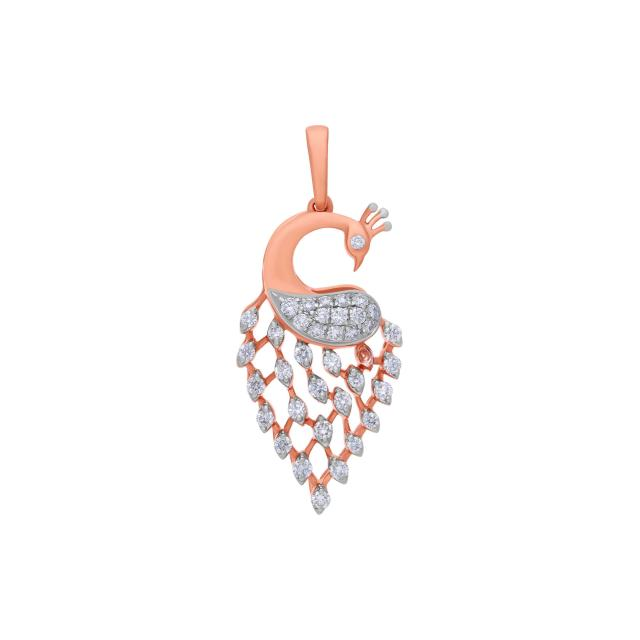missing gem: (357, 344, 373, 371)
